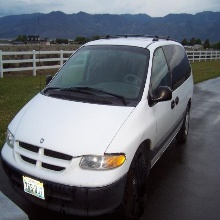no damage: (1, 36, 194, 217)
